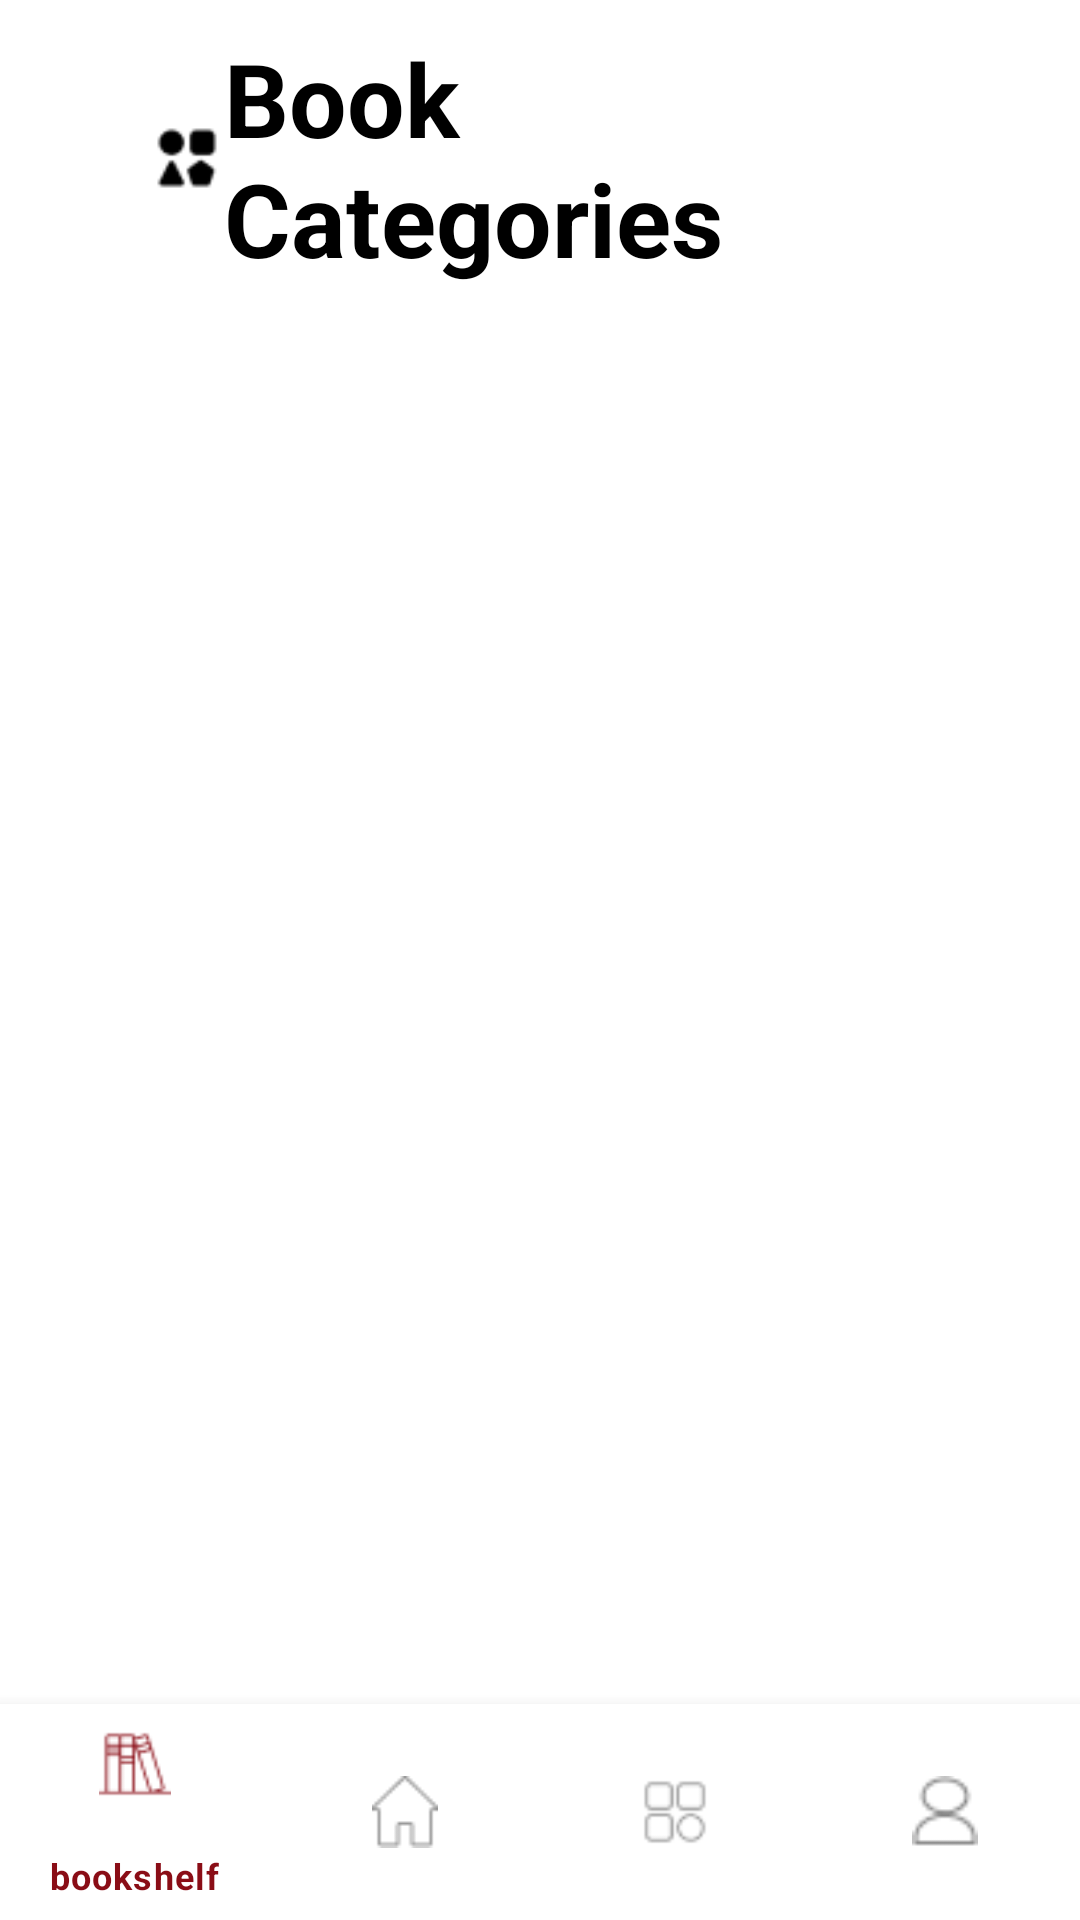

Named icons in this screenshot (1080 × 1920) and their bounding boxes, (x1, y1, x2, y2):
diversity: (157, 128, 217, 188)
